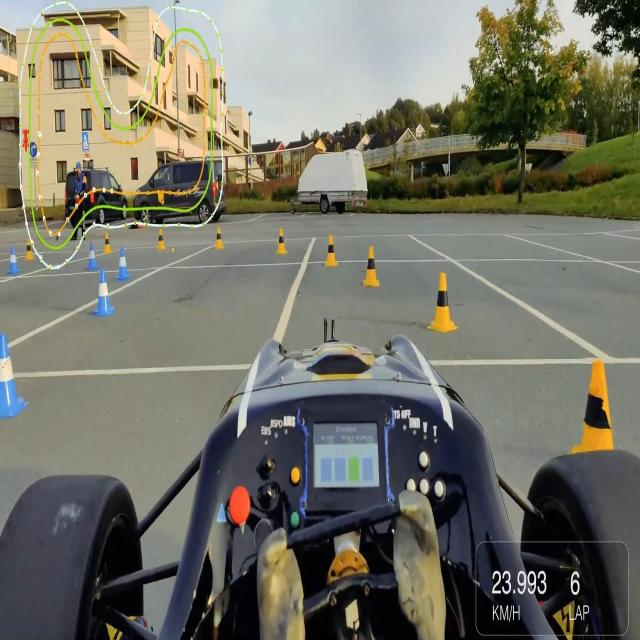blue_cone: (0, 325, 31, 428), (94, 267, 114, 314), (116, 247, 131, 277), (88, 238, 99, 266)
yellow_cone: (582, 352, 625, 454), (432, 269, 459, 340), (362, 238, 381, 296), (326, 230, 339, 268), (276, 222, 288, 253), (216, 224, 228, 252), (154, 227, 166, 248)
